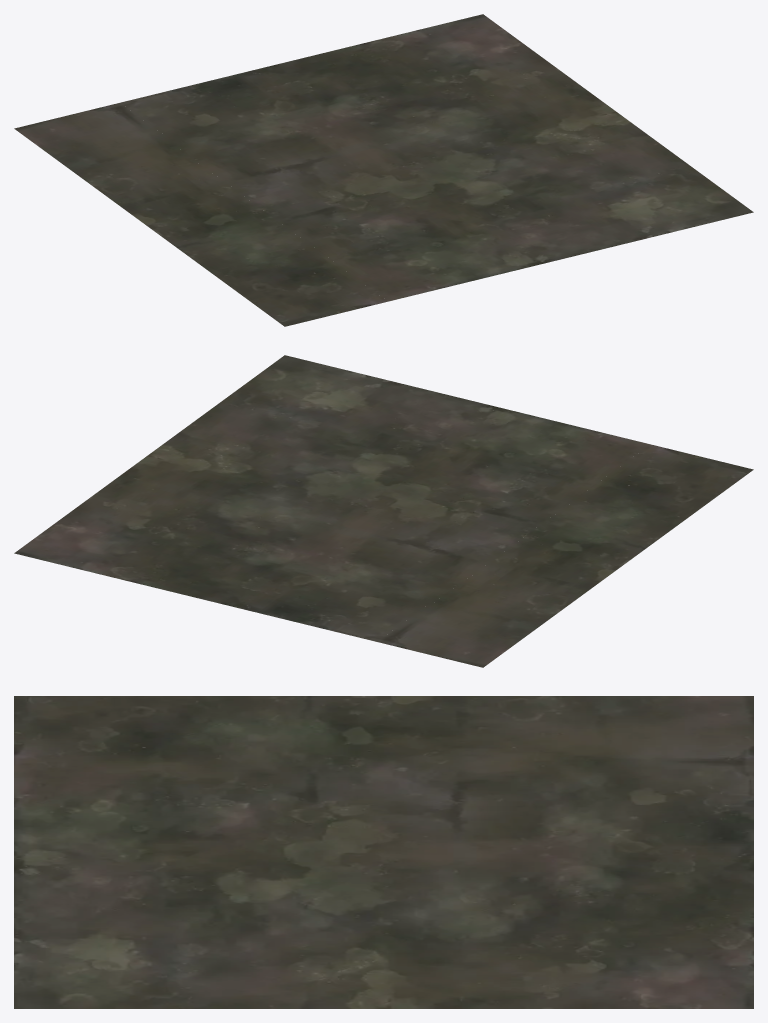
Rendered from passerella.glb.
3 views of the same model, one above another, from view 1: azimuth 30°, elevation 25°; view 2: azimuth 150°, elevation 25°; view 3: azimuth 270°, elevation 25° (orthographic). The views are drawn at different scales.
Parts seen in each view (by area): view 1: Ebene; view 2: Ebene; view 3: Ebene.
Part boxes in pixels (x1=…): Ebene: x1=14, y1=14, x2=753, y2=326; Ebene: x1=14, y1=355, x2=753, y2=667; Ebene: x1=14, y1=696, x2=753, y2=1008.
Size of the model in its own units: 47.14 by 0 by 47.14.
1 material, 1 textured.
